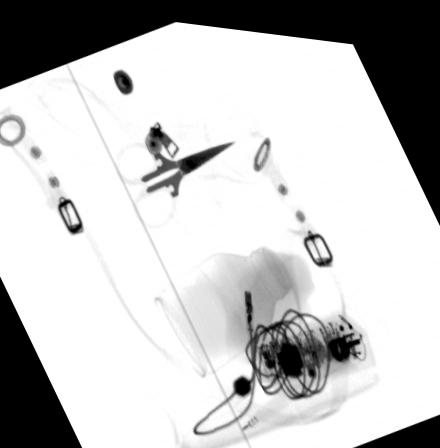Scissors: (111, 136, 236, 227)
